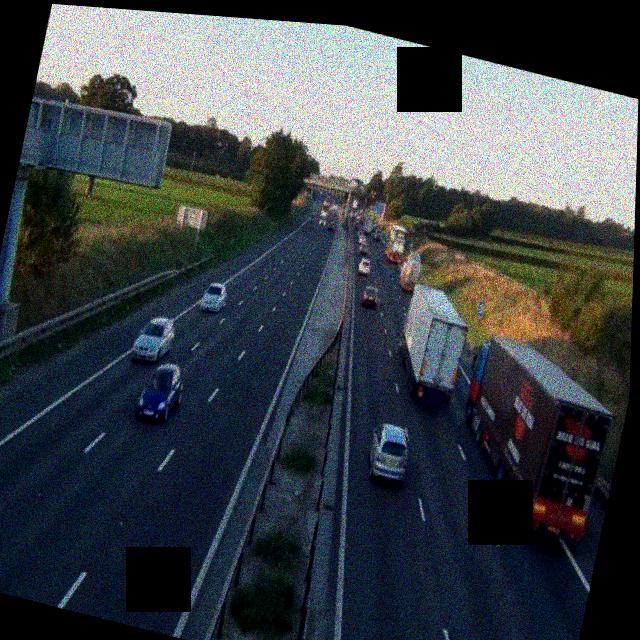bus: (384, 221, 411, 265)
car: (134, 354, 186, 426), (365, 418, 414, 486), (130, 310, 178, 367), (199, 277, 229, 314), (360, 282, 378, 307), (357, 256, 372, 276), (356, 236, 369, 253)
truck: (438, 330, 623, 547), (390, 282, 475, 407), (395, 254, 422, 295)
